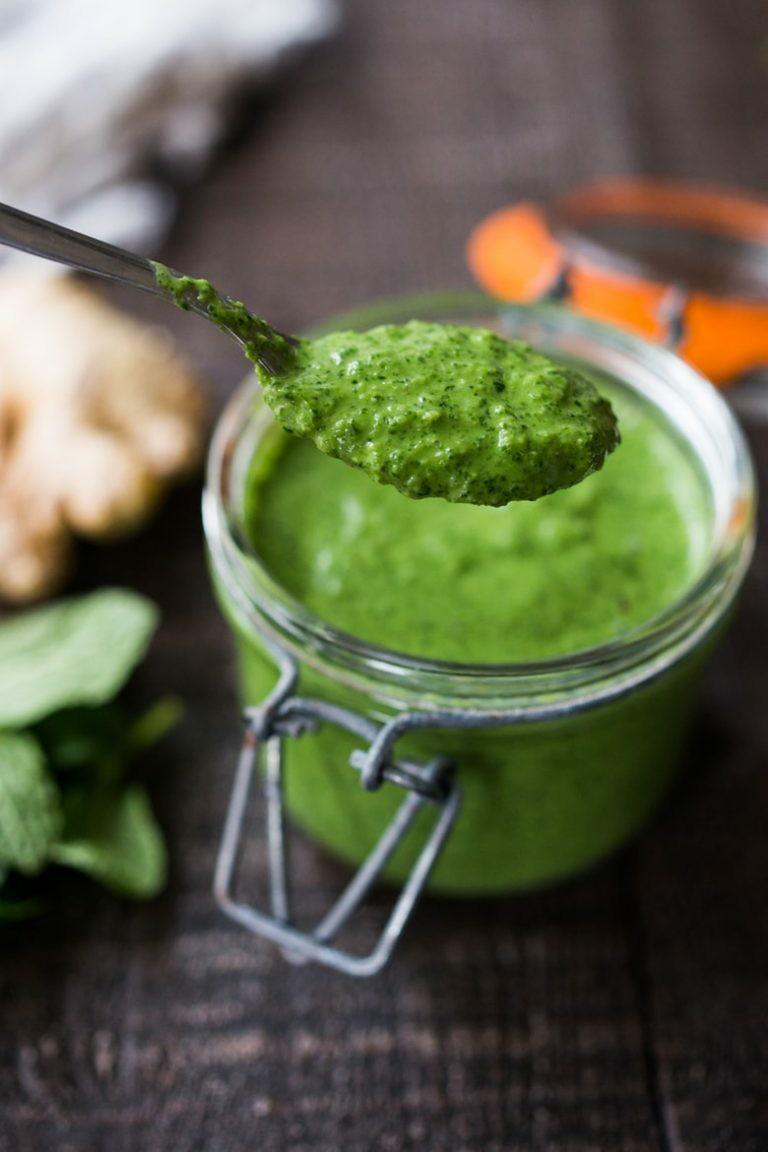GreenChutney: (239, 365, 698, 888), (160, 262, 623, 506)
